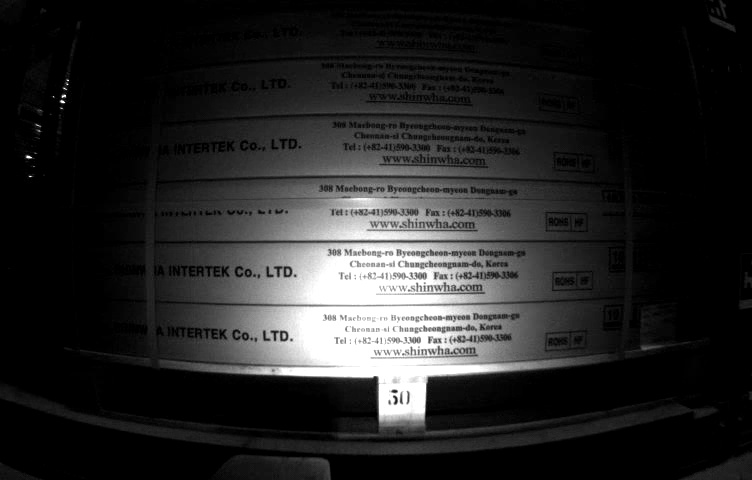True Barcode: (640, 304, 679, 348)
